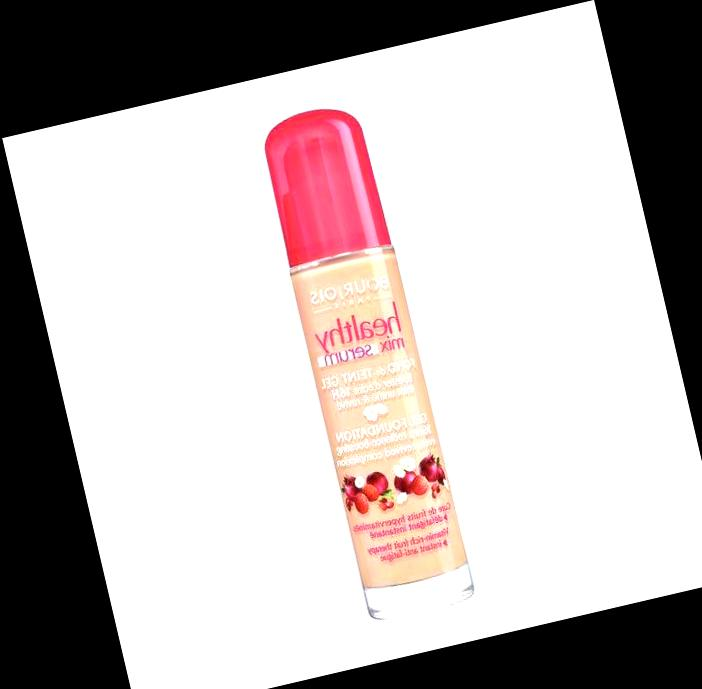cosmetic: (253, 98, 479, 620)
